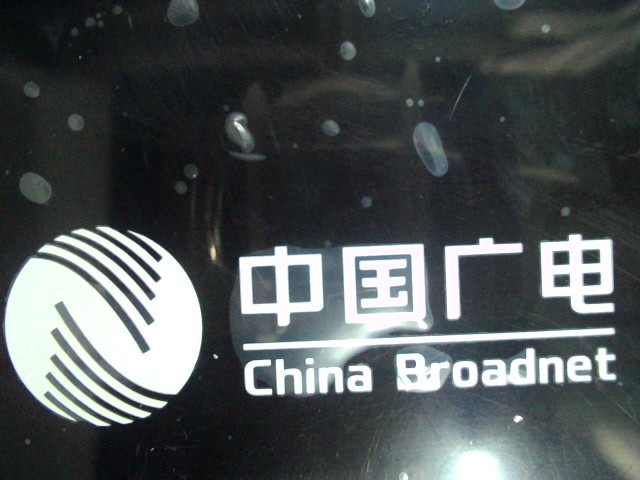AW_ChinaBroadNet: (2, 216, 629, 434)
